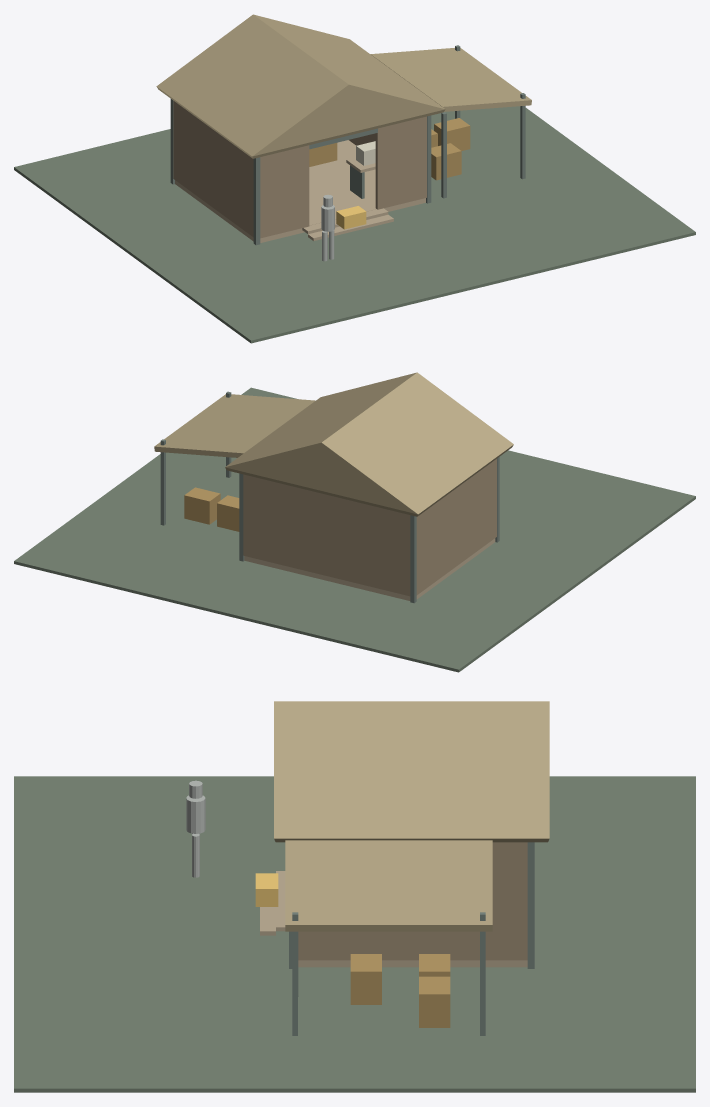
The model's file is C1_MissionBlockout.fbx.
3 views of the same model, one above another, from view 1: azimuth 30°, elevation 25°; view 2: azimuth 150°, elevation 25°; view 3: azimuth 270°, elevation 25° (orthographic). The views are drawn at different scales.
Visible parts, largest first — view 1: Review ground, Palm roof volume, Side wall, Single slope roof, Front right, Front left, Raised plank floor, Sorting cargo.002, Sorting cargo.001, Frame post, Portable mission case, Door step.001 (+2 smaller); view 2: Review ground, Palm roof volume, Rear wall, Side wall, Single slope roof, Raised plank floor, Sorting cargo.001, Sorting cargo, Frame post.001, Shelter post.003; view 3: Review ground, Palm roof volume, Single slope roof, Side wall.001, Sorting cargo.001, Sorting cargo.002, Raised plank floor, Frame post.003, Portable mission case, Shelter post.002, Sorting cargo, Torso (+1 smaller).
Part boxes in pixels (x1=…): Review ground: x1=14, y1=106, x2=695, y2=343; Palm roof volume: x1=156, y1=14, x2=445, y2=158; Side wall: x1=173, y1=101, x2=253, y2=237; Single slope roof: x1=370, y1=48, x2=531, y2=111; Front right: x1=375, y1=116, x2=426, y2=209; Front left: x1=260, y1=145, x2=309, y2=238; Raised plank floor: x1=175, y1=140, x2=425, y2=242; Sorting cargo.002: x1=431, y1=143, x2=461, y2=180; Sorting cargo.001: x1=434, y1=118, x2=470, y2=150; Frame post: x1=253, y1=157, x2=260, y2=245; Portable mission case: x1=336, y1=206, x2=366, y2=229; Door step.001: x1=308, y1=214, x2=393, y2=240; Review ground: x1=14, y1=387, x2=695, y2=672; Palm roof volume: x1=225, y1=372, x2=513, y2=516; Rear wall: x1=243, y1=474, x2=410, y2=596; Side wall: x1=416, y1=459, x2=496, y2=595; Single slope roof: x1=154, y1=394, x2=315, y2=457; Raised plank floor: x1=244, y1=538, x2=495, y2=600; Sorting cargo.001: x1=184, y1=487, x2=220, y2=524; Sorting cargo: x1=217, y1=495, x2=239, y2=531; Frame post.001: x1=410, y1=515, x2=416, y2=603; Shelter post.003: x1=160, y1=439, x2=165, y2=525; Review ground: x1=14, y1=776, x2=695, y2=1092; Palm roof volume: x1=274, y1=701, x2=549, y2=842; Single slope roof: x1=285, y1=840, x2=492, y2=931; Side wall.001: x1=298, y1=842, x2=527, y2=960; Sorting cargo.001: x1=419, y1=976, x2=450, y2=1027; Sorting cargo.002: x1=350, y1=954, x2=381, y2=1004; Raised plank floor: x1=298, y1=960, x2=527, y2=967; Frame post.003: x1=527, y1=842, x2=534, y2=968; Portable mission case: x1=255, y1=873, x2=278, y2=906; Shelter post.002: x1=292, y1=912, x2=298, y2=1035; Sorting cargo: x1=419, y1=954, x2=450, y2=976; Torso: x1=186, y1=795, x2=205, y2=833.
Bounding box in the file's own units: 1300 × 410 × 1200.
